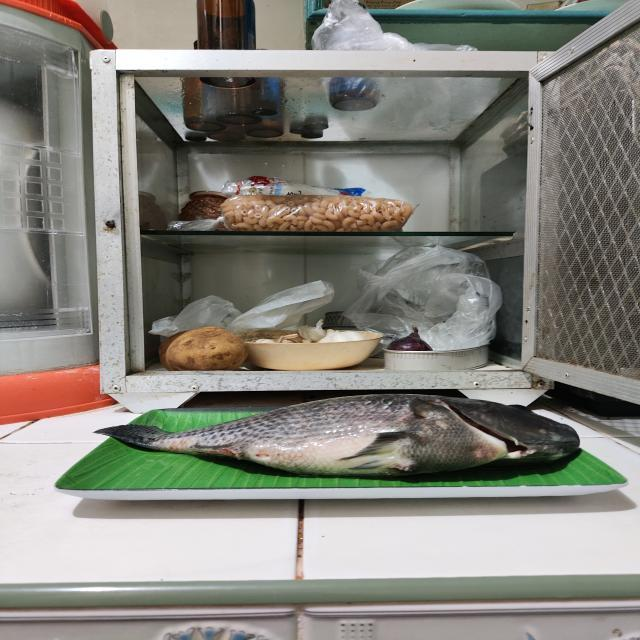fish: (96, 392, 583, 475)
potato: (155, 328, 249, 371)
